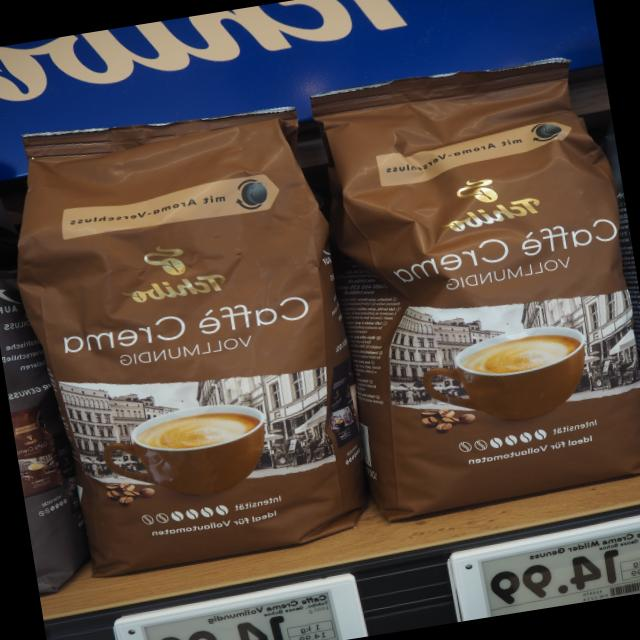CC Vollmundig 36 Pads: (0, 83, 383, 588), (302, 43, 640, 531)
